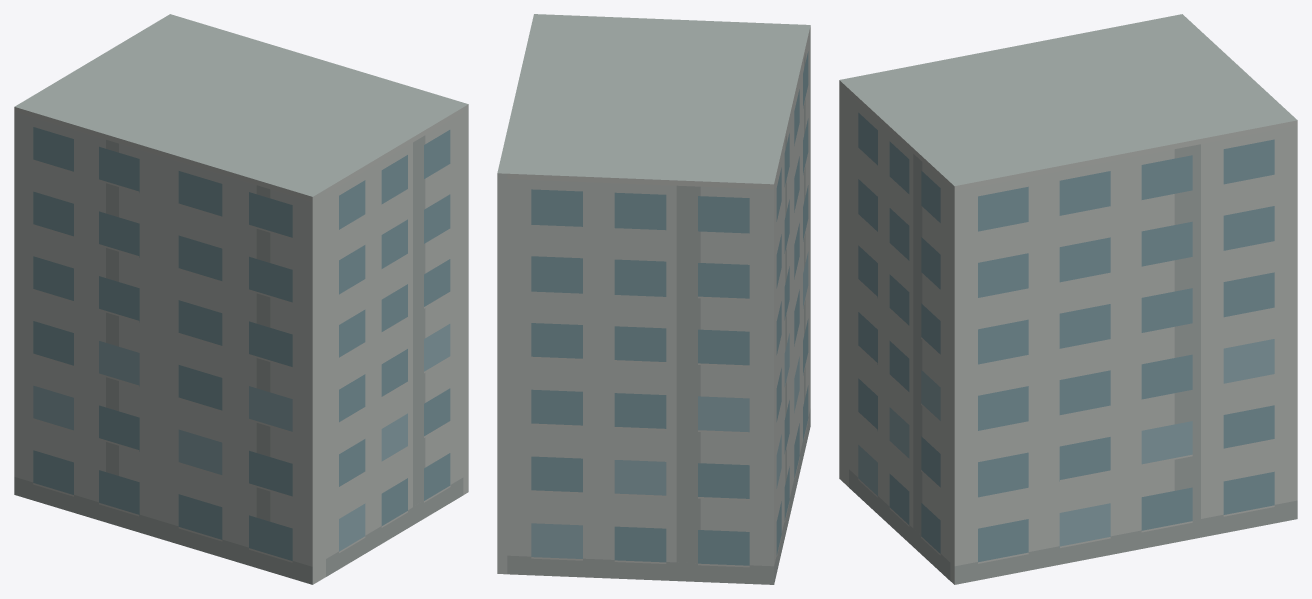
File: survey-upis-33019837.glb
3 renders of one model, left to right at view 1: azimuth 30°, elevation 25°; view 2: azimuth 150°, elevation 25°; view 3: azimuth 270°, elevation 25°, orthographic. The views are drawn at different scales.
Parts seen in each view (by area): view 1: survey-upis-33019837.tmp; view 2: survey-upis-33019837.tmp; view 3: survey-upis-33019837.tmp.
Boxes of the visible parts, x1,y1,x2,y2 form: survey-upis-33019837.tmp: [14, 14, 468, 584]; survey-upis-33019837.tmp: [497, 14, 810, 584]; survey-upis-33019837.tmp: [839, 14, 1297, 584].
Bounding box in the file's own units: 16.96 × 18.3 × 19.07.
